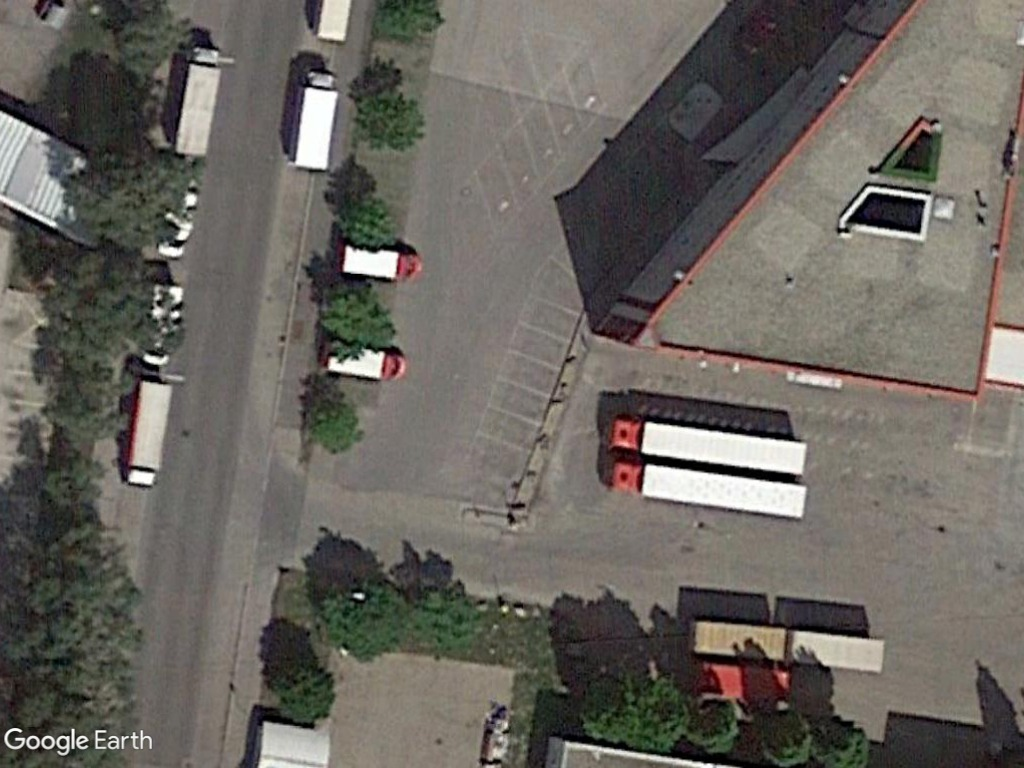truck: (604, 410, 815, 483), (605, 456, 814, 522), (117, 376, 181, 489), (170, 43, 225, 161), (286, 69, 342, 174), (326, 336, 412, 383), (339, 240, 426, 283)
